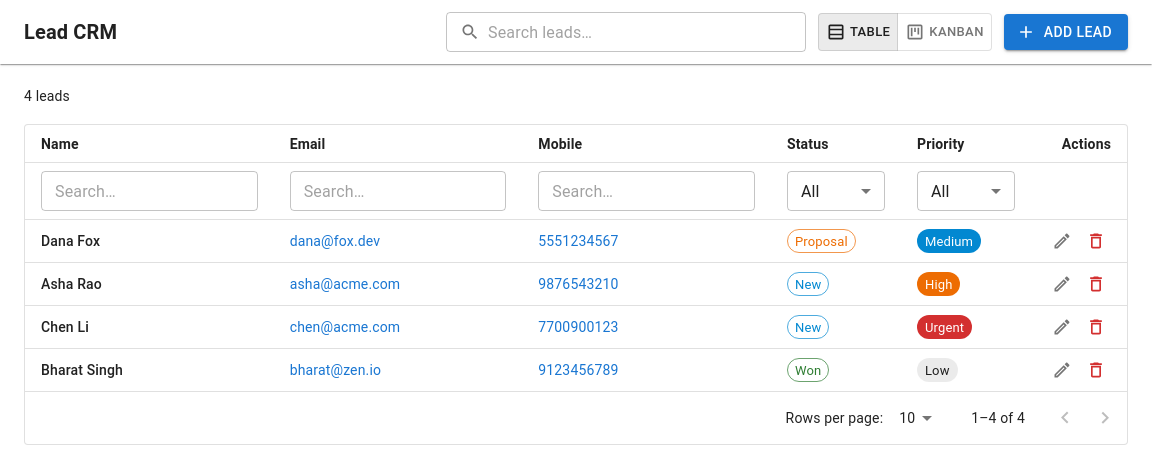
Test: App › filters the table from the header search (debounced)
Type "bharat" into the search field labelled "Search leads". click: (647,32)
box: top-left (488, 12), bottom-right (806, 52)
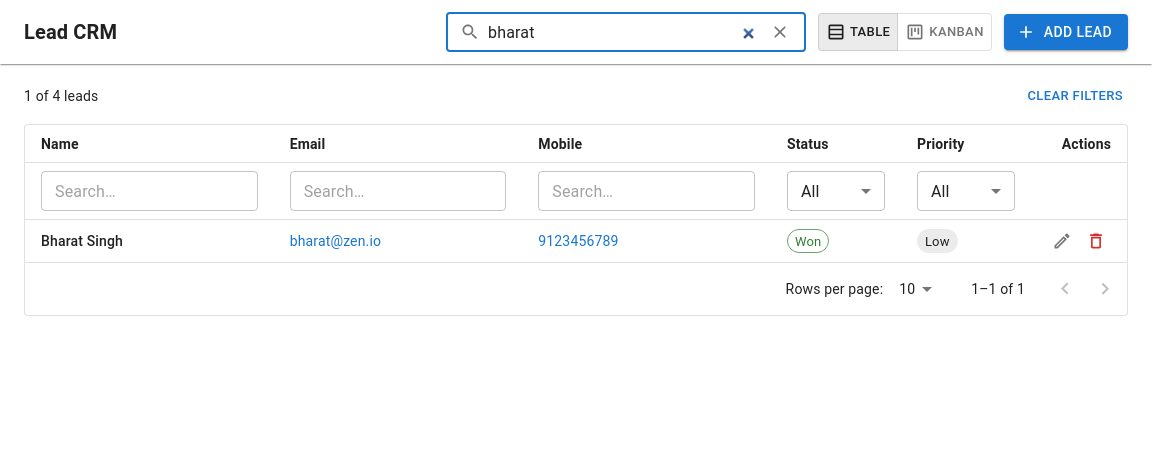
Result: the text "1 of 4 leads" is shown at top-left (24, 86), bottom-right (98, 106)
